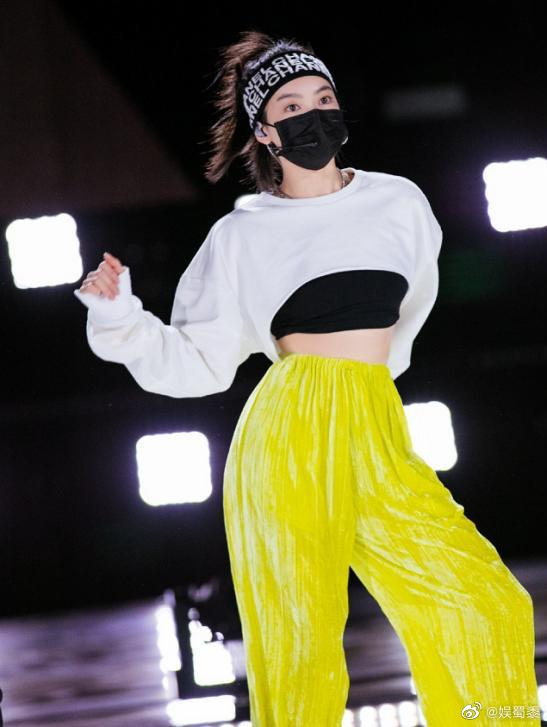OK: (273, 83, 347, 170)
